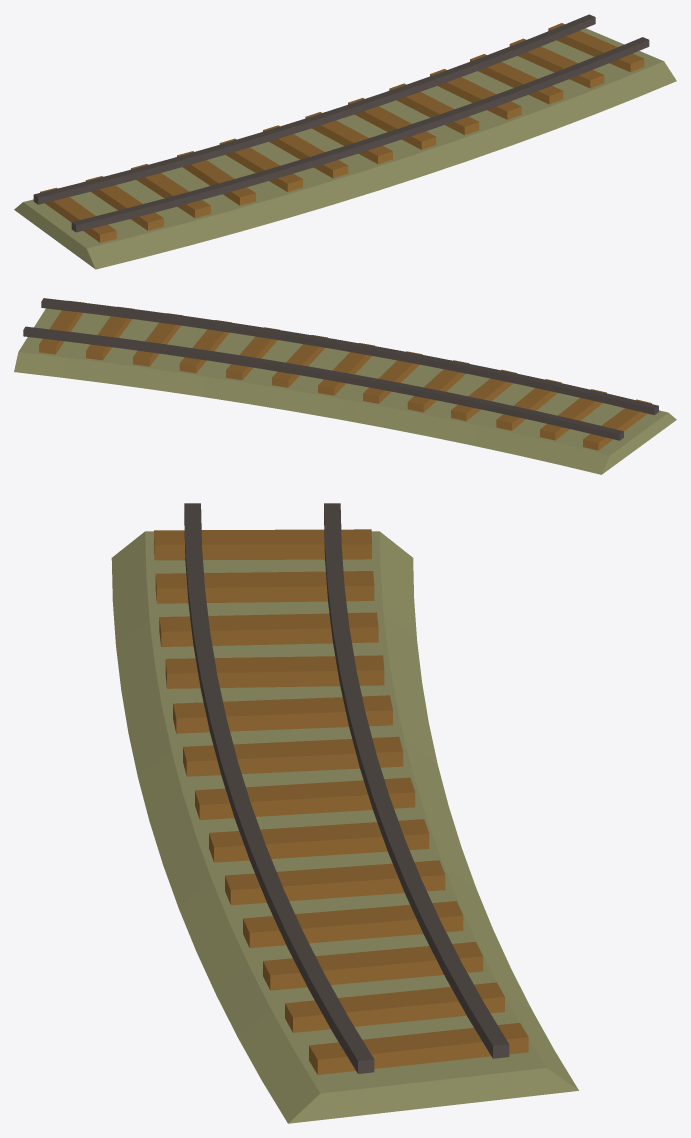
File: SM_Via_CurvaR60_v1_Madera_LOD1.fbx
3 renders of one model, top to bottom at view 1: azimuth 30°, elevation 25°; view 2: azimuth 150°, elevation 25°; view 3: azimuth 270°, elevation 25°, orthographic. The views are drawn at different scales.
Parts seen in each view (by area): view 1: SM_via_trazado_v11_LOD1; view 2: SM_via_trazado_v11_LOD1; view 3: SM_via_trazado_v11_LOD1.
Boxes of the visible parts, x1,y1,x2,y2 form: SM_via_trazado_v11_LOD1: [14, 14, 676, 269]; SM_via_trazado_v11_LOD1: [14, 298, 676, 474]; SM_via_trazado_v11_LOD1: [111, 503, 578, 1123].
Bounding box in the file's own units: 16 × 0.72 × 5.58.
